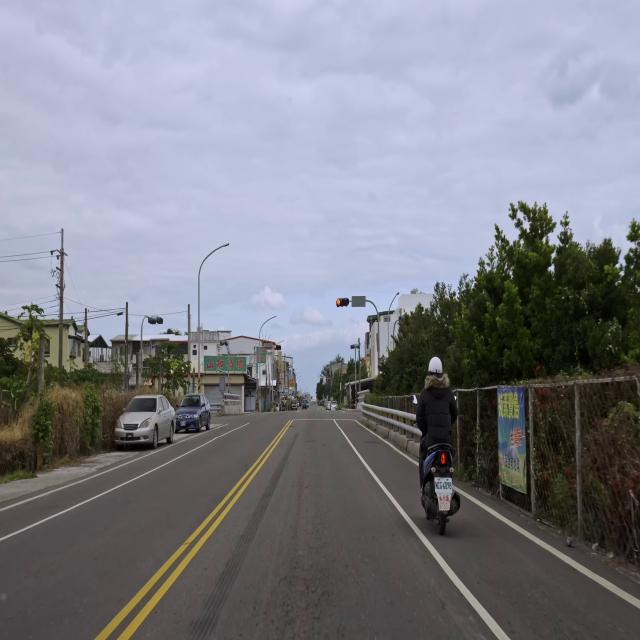red light: (336, 298, 349, 307), (274, 344, 281, 351)
